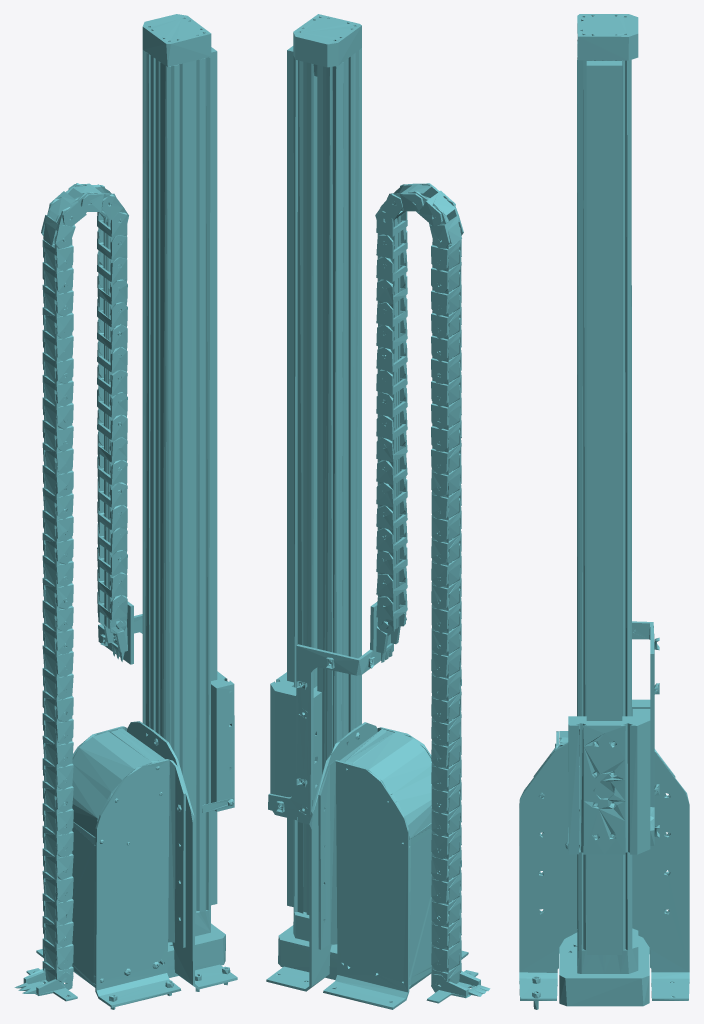
File: meka_zlift.dae
3 views of the same model, side by side, from view 1: azimuth 30°, elevation 25°; view 2: azimuth 150°, elevation 25°; view 3: azimuth 270°, elevation 25° (orthographic). The views are drawn at different scales.
Parts seen in each view (by area): view 1: MB1_00_000_meka_mobile_base_backpack_zlift_0012; view 2: MB1_00_000_meka_mobile_base_backpack_zlift_0012; view 3: MB1_00_000_meka_mobile_base_backpack_zlift_0012.
Boxes of the visible parts, left/top/right/bottom form: MB1_00_000_meka_mobile_base_backpack_zlift_0012: left=14, top=14, right=237, bottom=1009; MB1_00_000_meka_mobile_base_backpack_zlift_0012: left=266, top=14, right=490, bottom=1009; MB1_00_000_meka_mobile_base_backpack_zlift_0012: left=519, top=14, right=689, bottom=1009.
Size of the model in its own units: 0.2815 by 0.2 by 1.26.
